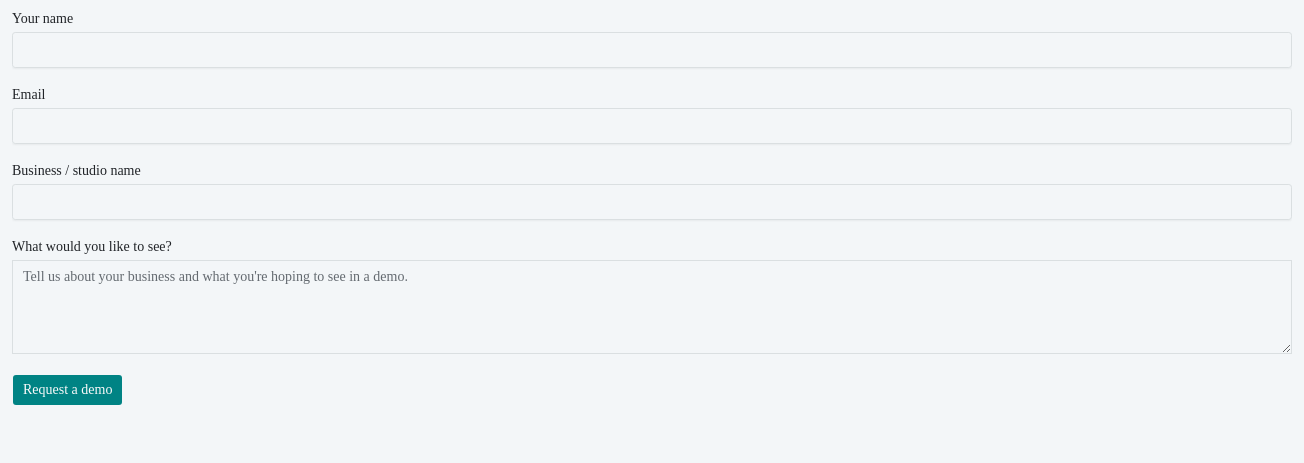
BookDemoForm › shows a rate-limit error inline and keeps the form editable for resubmission
Step 1. Type "Alex Morgan" into the field labelled "Your name" → (652, 50), box [12,32,1292,68]
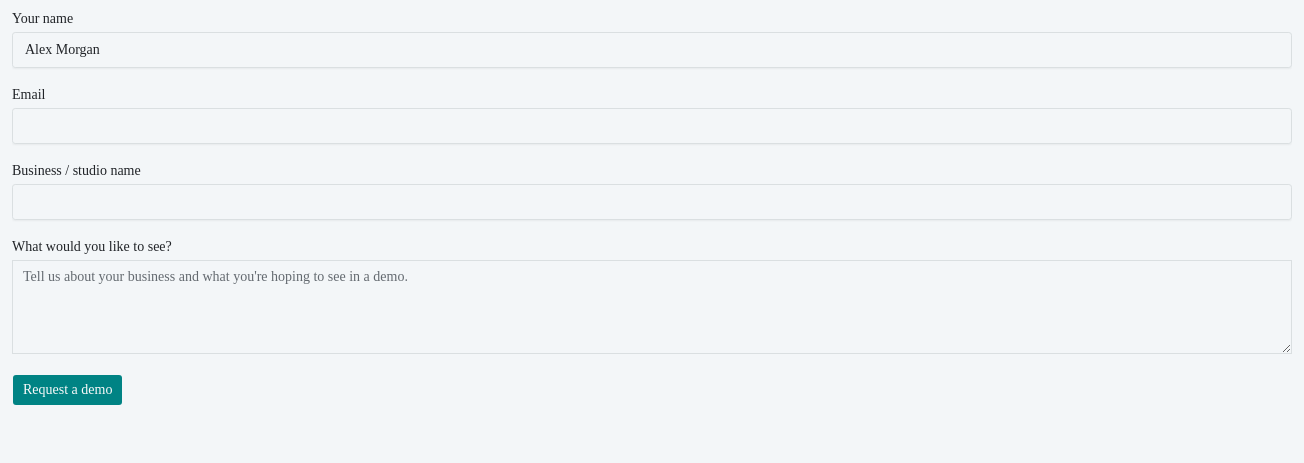
Step 2. Type "alex@example.com" into the field labelled "Email" → (652, 126), box [12,108,1292,144]
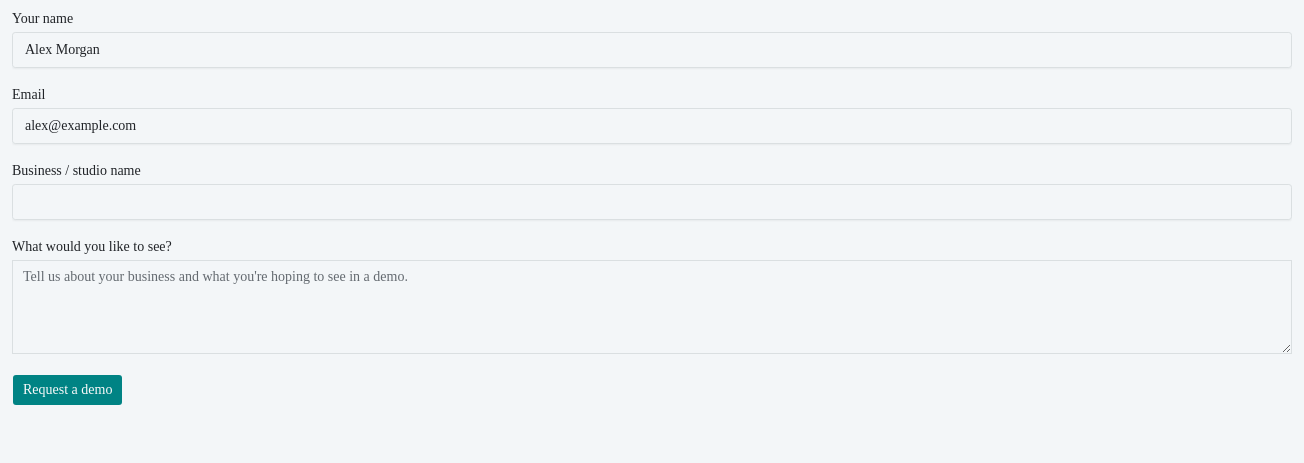
Step 3. Type "Aurora Studio" into the field labelled "Business / studio name" → (652, 202), box [12,184,1292,220]
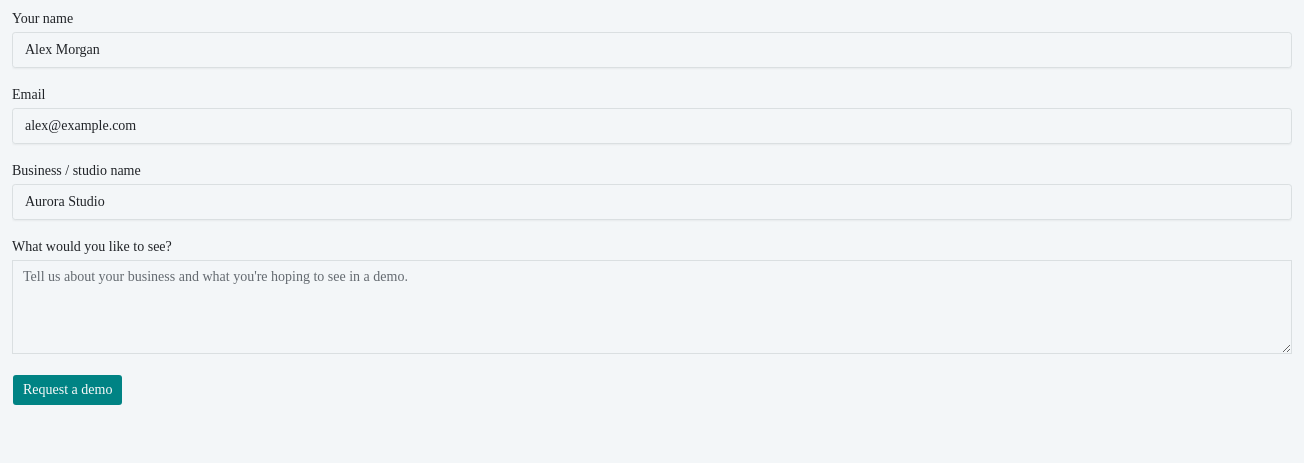
Step 4. Replace the text in the text box labelled "What would you like to see?" with "The gallery block please." → (652, 307), box [12,260,1292,354]
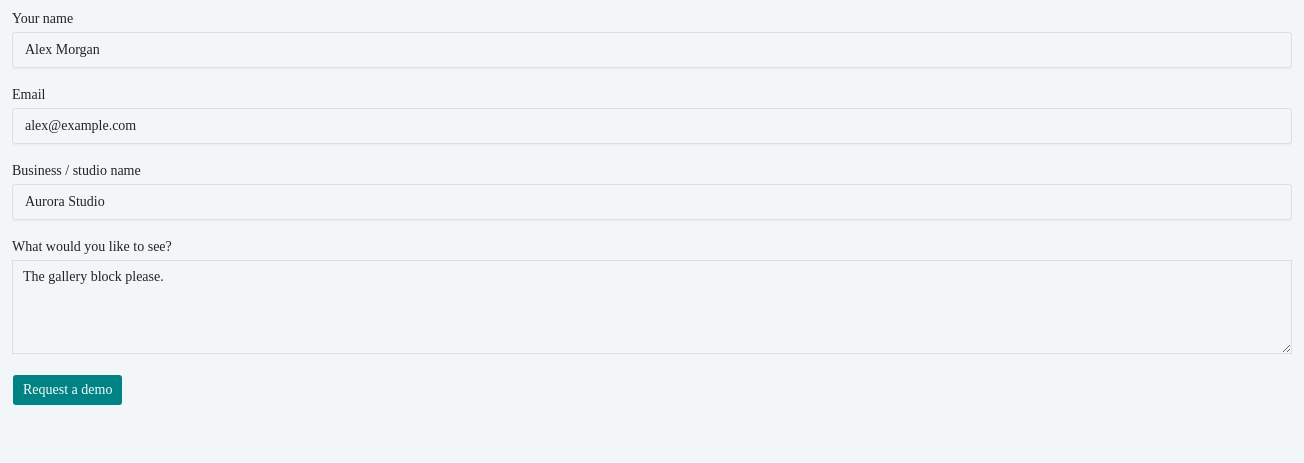
Step 5. Click the button "Request a demo" → (68, 390), box [12,374,123,406]
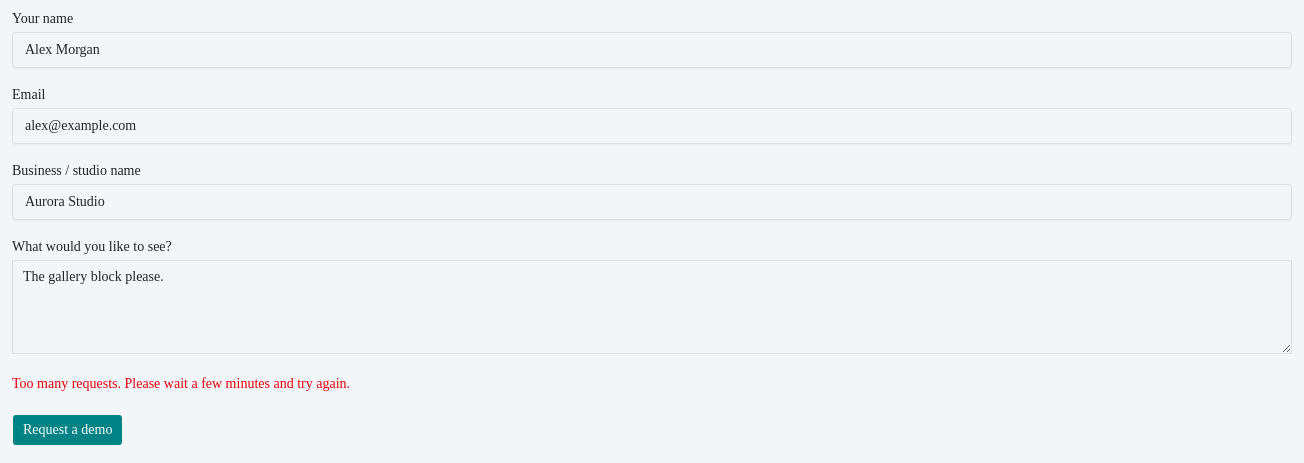
expect the button "Request a demo" is enabled: met, box [12,414,123,446]
expect the text "Too many requests. Please wait a few minutes and try again." is shown: met, box [12,376,350,391]
